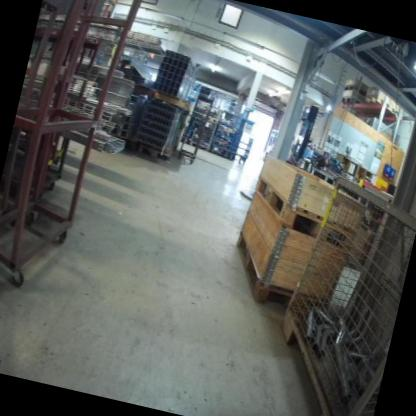pallet: (222, 231, 342, 320), (245, 174, 364, 251), (362, 95, 392, 108), (343, 83, 367, 96), (339, 94, 359, 107)
pallet_truck: (286, 99, 325, 169)
stillage: (256, 164, 416, 416), (186, 112, 219, 152)
